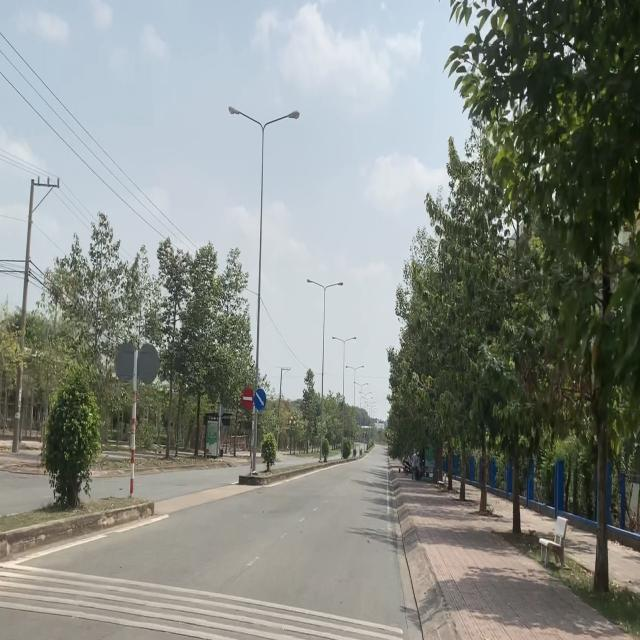Cam nguoc chieu: (242, 388, 254, 410)
Hieu lenh: (254, 388, 267, 411)
